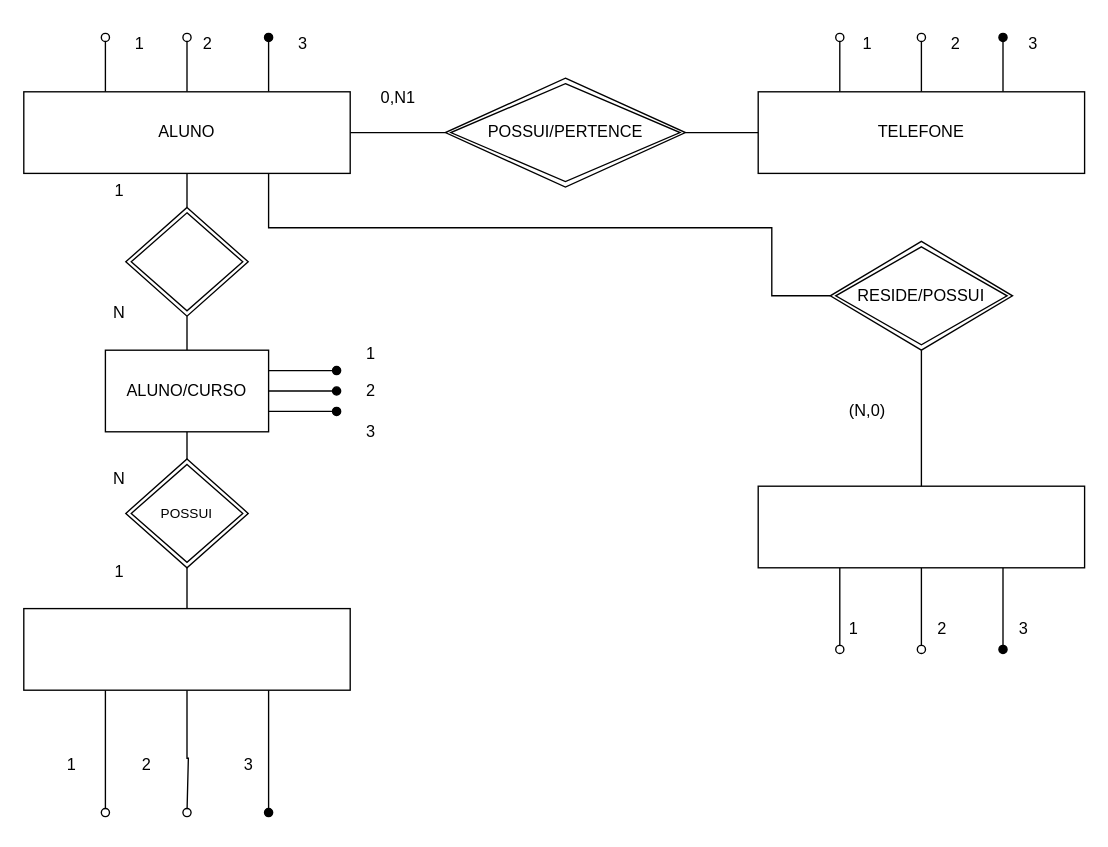
Some shapes in this 1108 by 847 pixel diagram are drawn without their labels. The centre of each missing label's shape, as x and y in pixels:
"CURSO" goes at point (186, 648).
"ESTADO" goes at point (921, 526).
"MATRICULADO" goes at point (186, 261).
